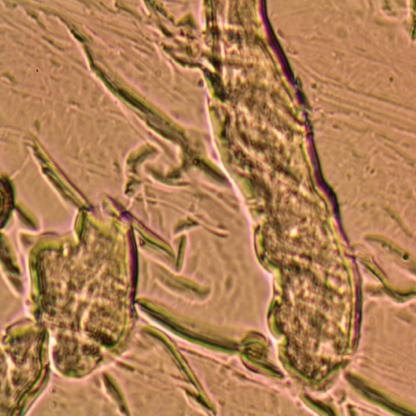Normal: (194, 1, 376, 404)
